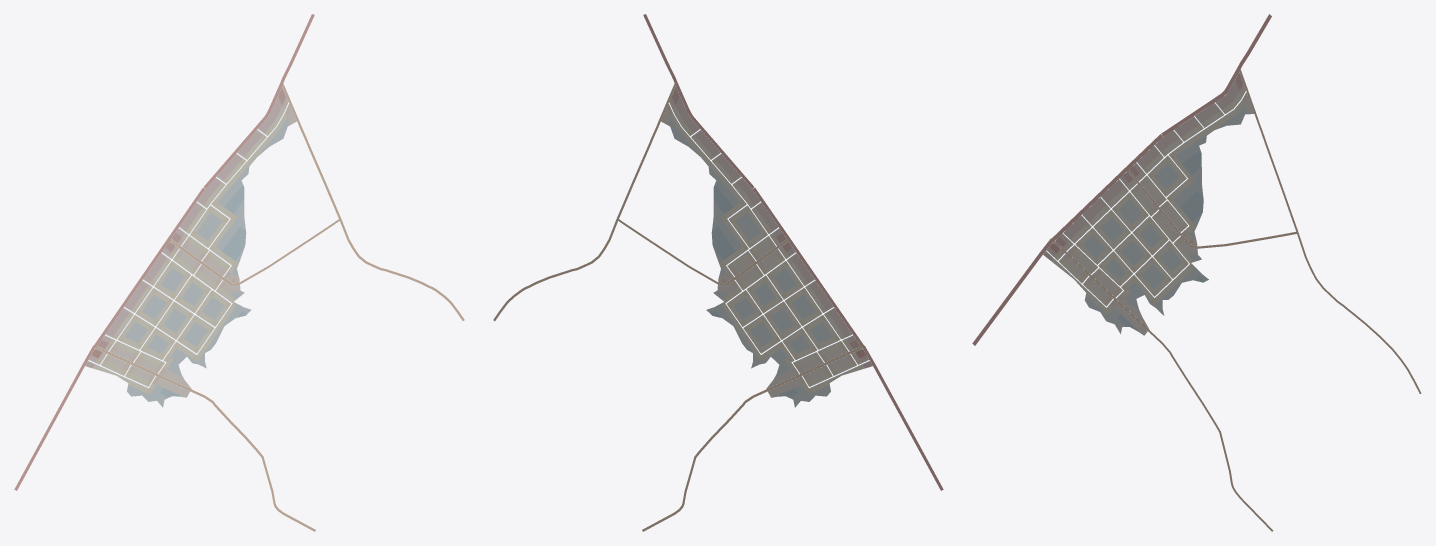
File: clusters.gltf
3 renders of one model, left to right at view 1: azimuth 30°, elevation 25°; view 2: azimuth 150°, elevation 25°; view 3: azimuth 330°, elevation 25°, orthographic.
Visible parts, largest first — view 1: obj_tri; view 2: obj_tri; view 3: obj_tri.
Part boxes in pixels (left/top/right/bottom): obj_tri: left=14, top=14, right=464, bottom=531; obj_tri: left=493, top=14, right=943, bottom=531; obj_tri: left=972, top=14, right=1421, bottom=531.
Size of the model in its own units: 2146 by 2361 by 0.2.
